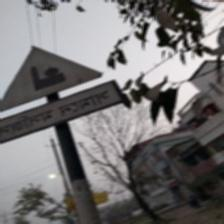Mosque in front: (0, 45, 115, 150)
